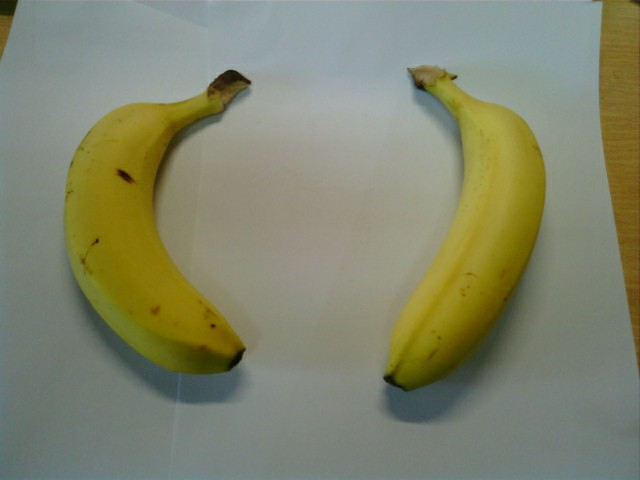fresh_banana: (385, 65, 548, 397)
normal_banana: (63, 72, 247, 372)
